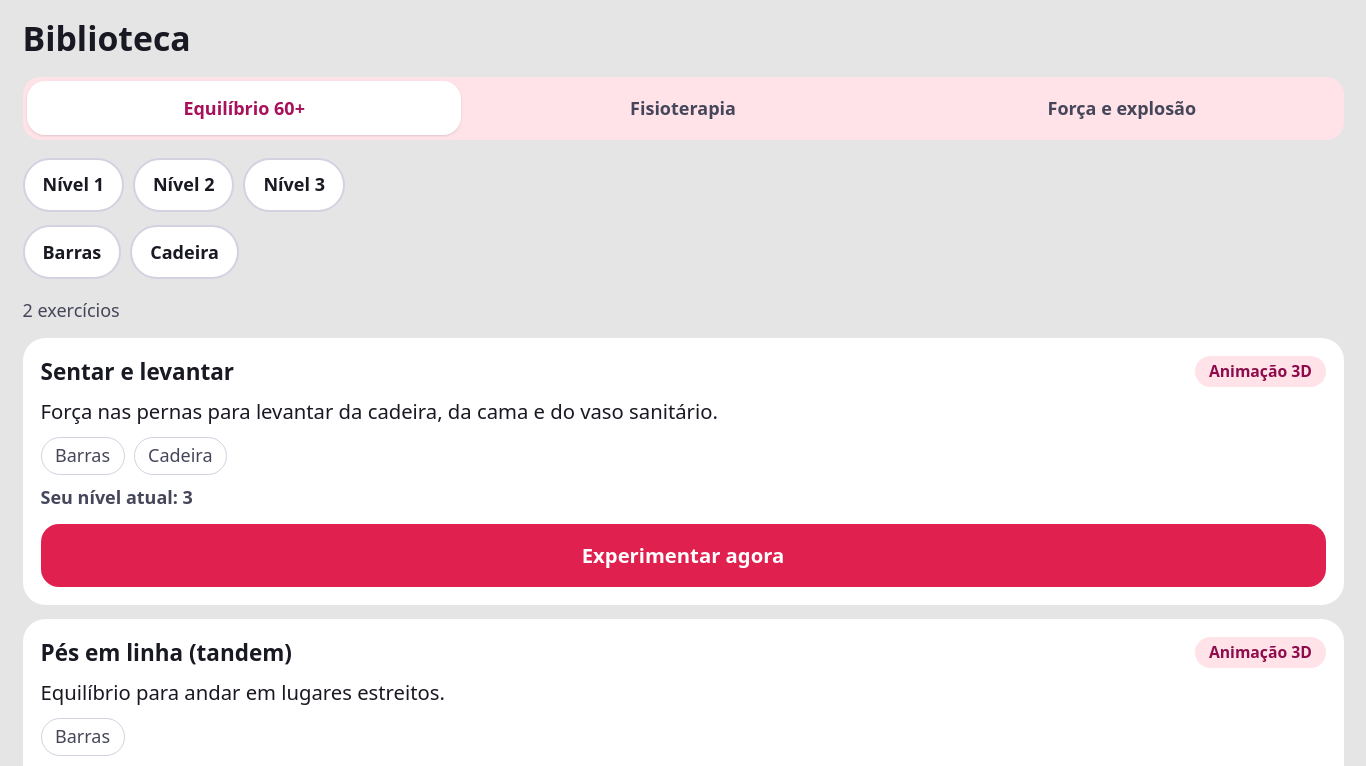
o filtro de nível mostra a dose daquele nível e abre o exercício nele
Click the button "Nível 2": coordinates (184, 184) [133,158,234,212]
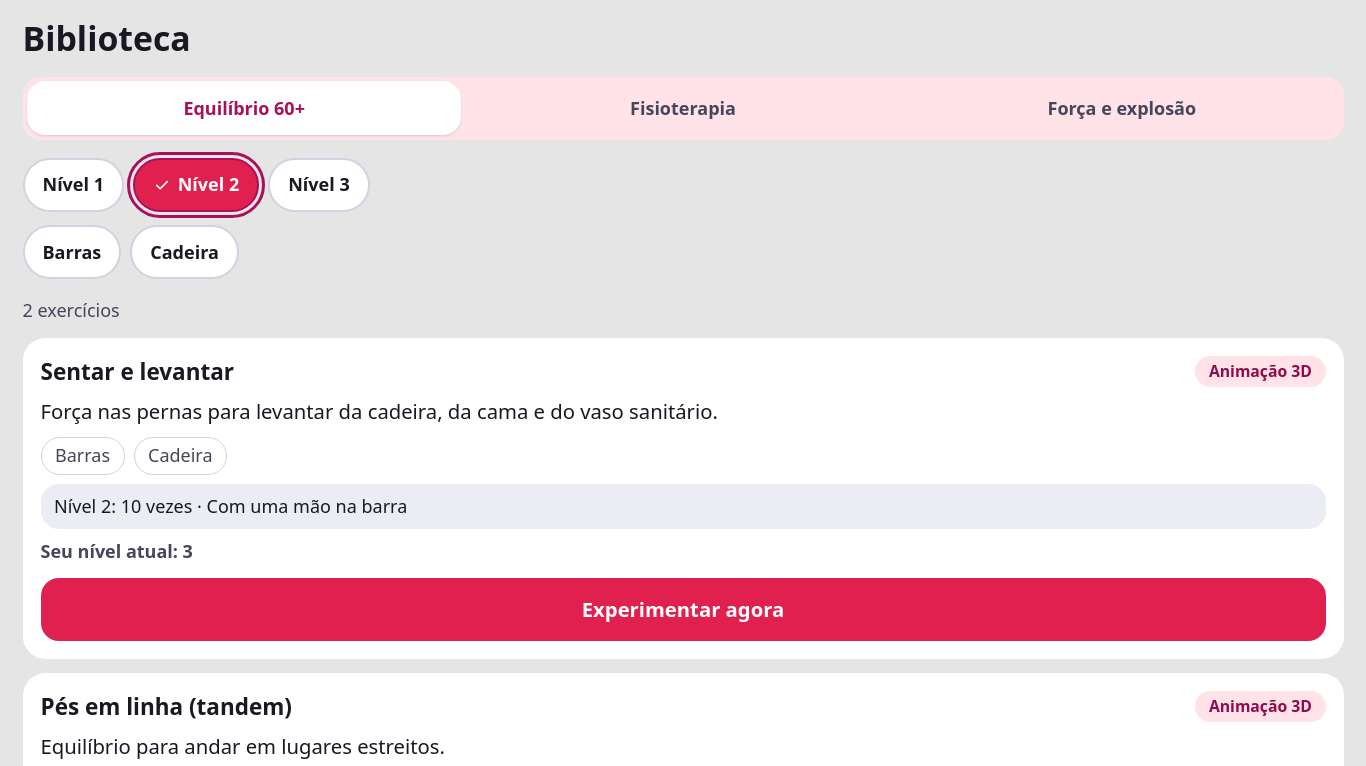
Expected: the text "Nível 2: 10 vezes · Com uma mão na barra" is shown, [40,484,1326,528]
